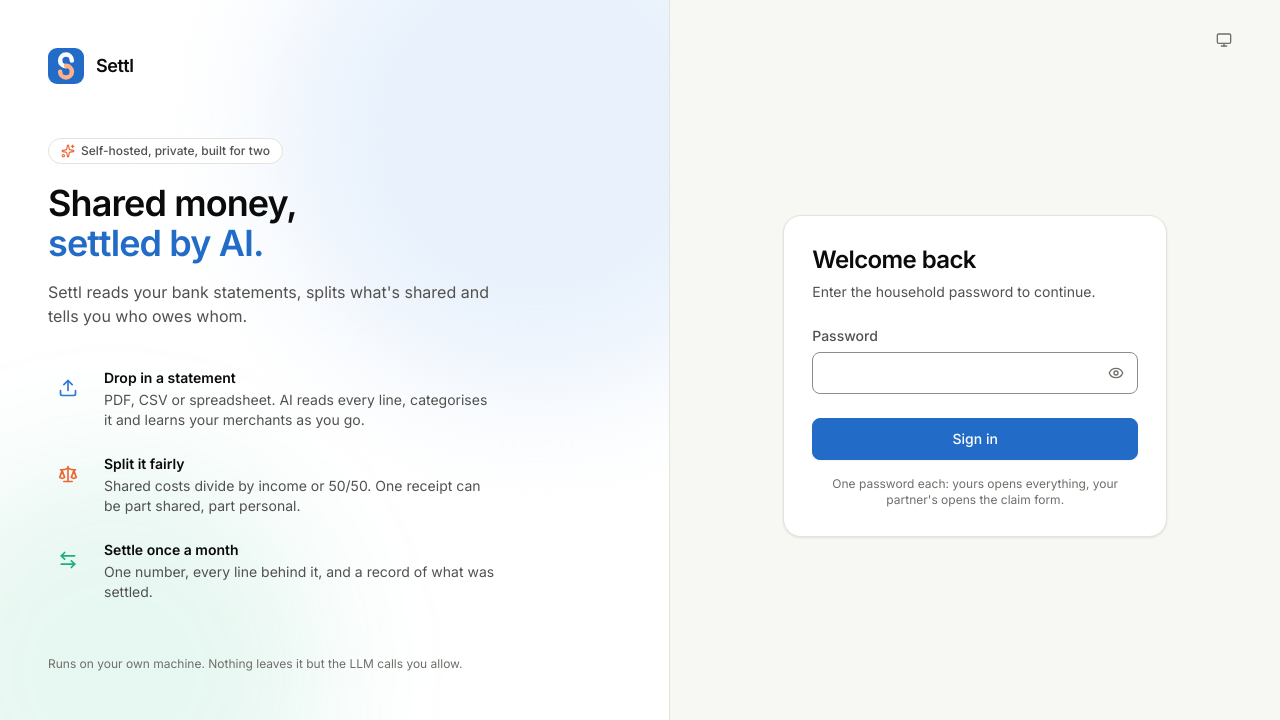
it: <LoginPage /> › marks the field invalid, ties it to the error and returns focus to it after a failed sign-in
Type "wrong" into the password field labelled "Password" at (975, 373), box [812,352,1138,394]
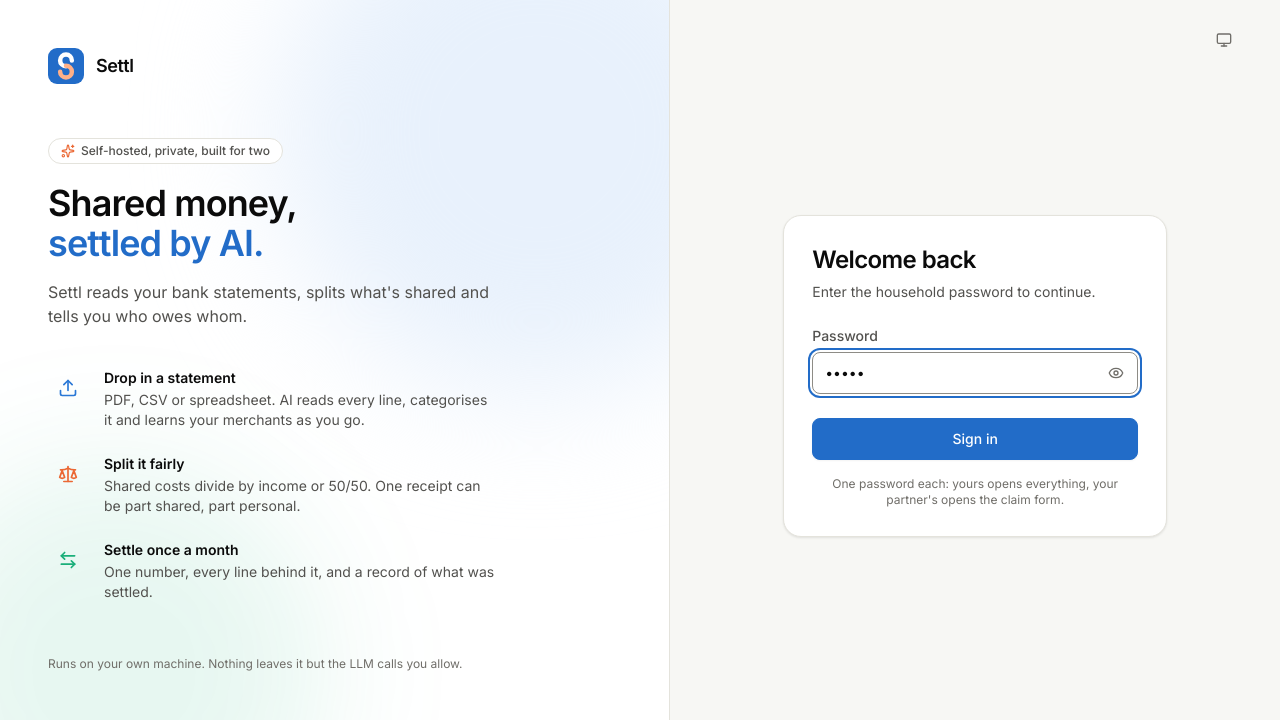
Click the button "Sign in" at (975, 439), box [812,418,1138,460]
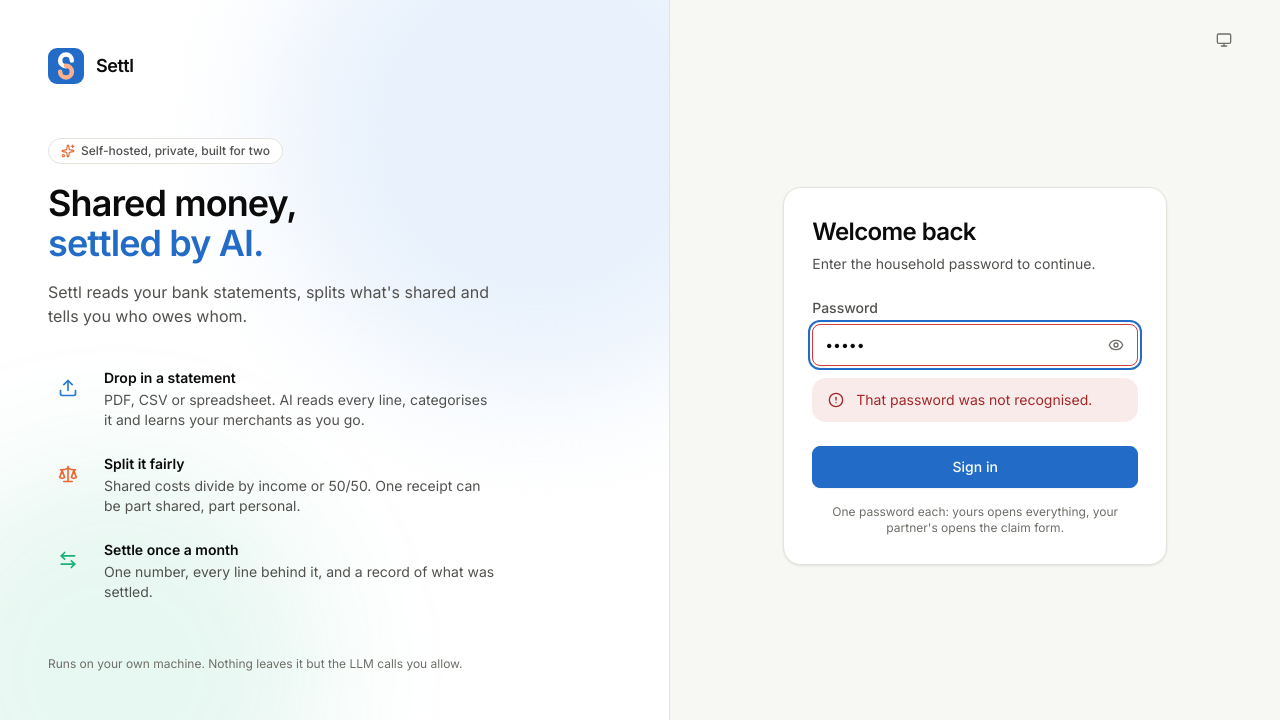
Check: the message reads "That password was not recognised.", box [856,391,1092,408]
